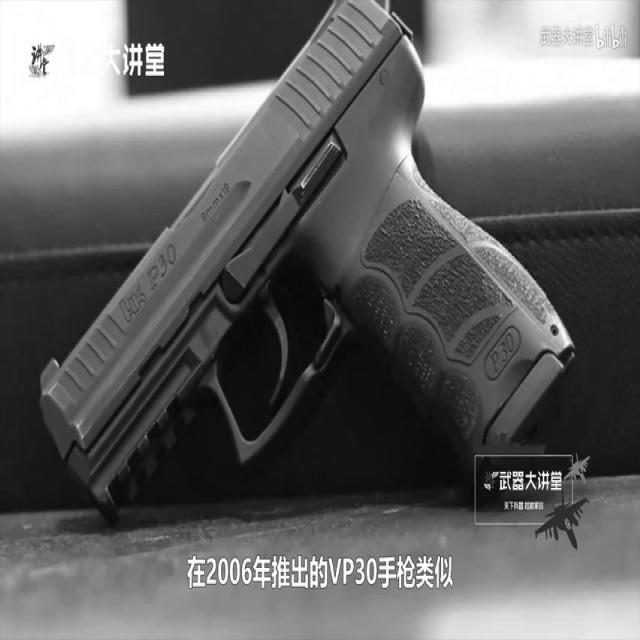Hand-Gun: (26, 0, 602, 519)
